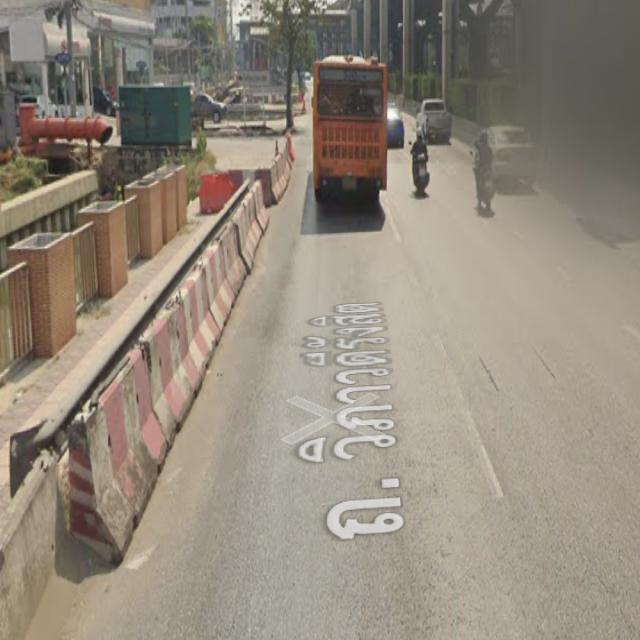fallen_object: (49, 289, 201, 570), (155, 190, 260, 383), (216, 107, 312, 234)
